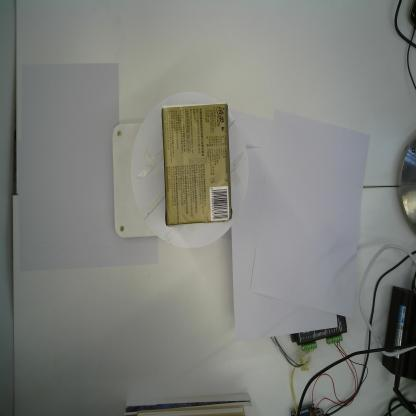Tissue: (161, 102, 233, 226)
